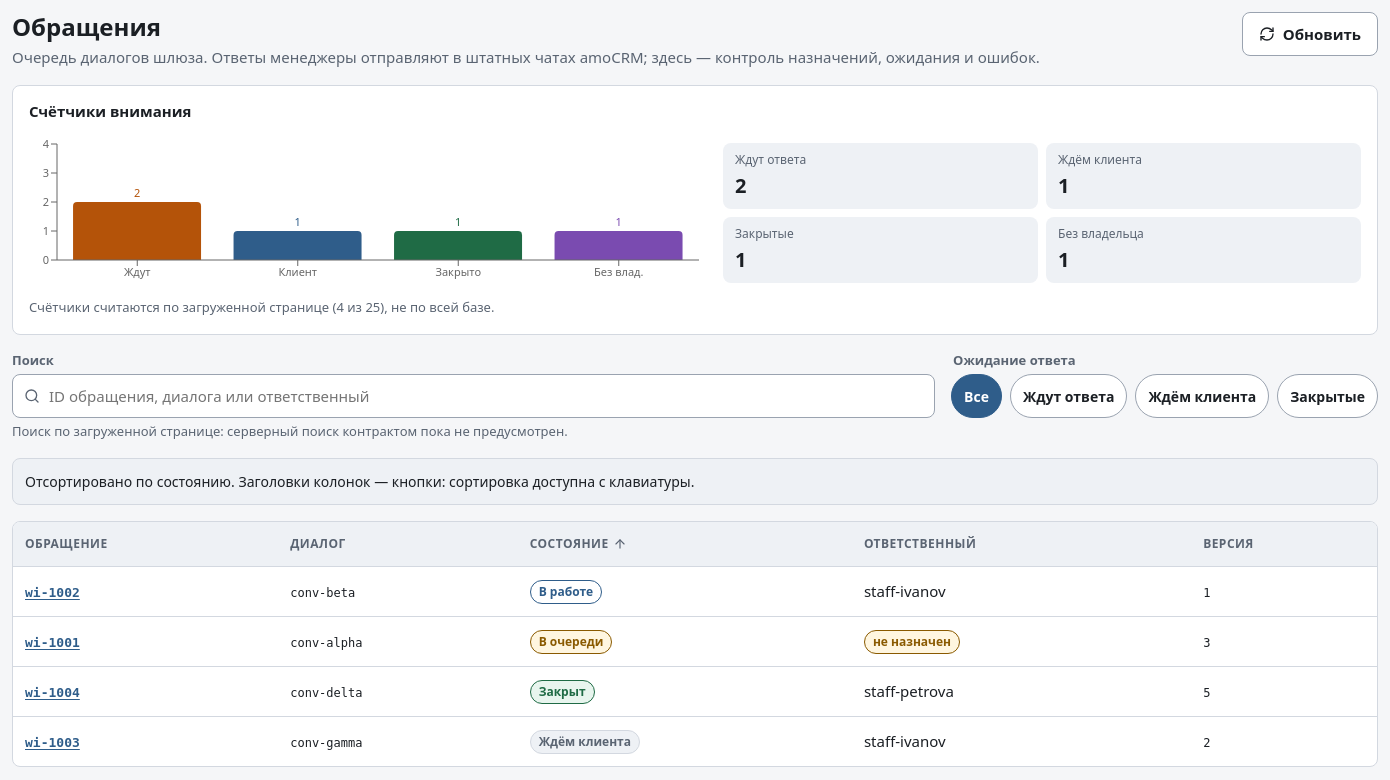
Test: список обращений › ищет по идентификатору диалога и показывает пустое состояние
expect the link "wi-1001" is shown: met, box top-left (25, 635), bottom-right (80, 650)
In the search field labelled "Поиск": (474, 396) top-left (12, 374), bottom-right (935, 418), type "conv-gamma"
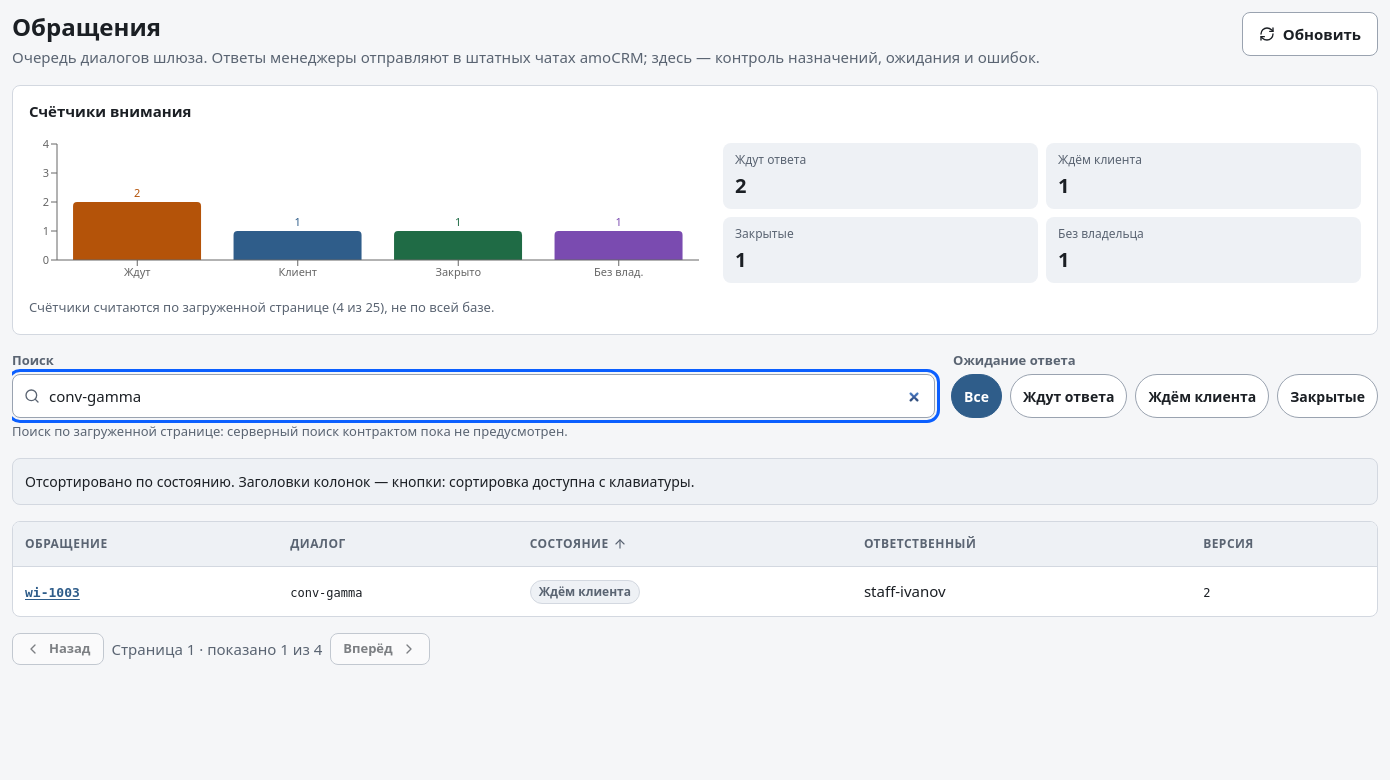
expect the link "wi-1003" is shown: met, box top-left (25, 585), bottom-right (80, 600)
expect the link "wi-1001" is gone: met
In the search field labelled "Поиск": (474, 396) top-left (12, 374), bottom-right (935, 418), type "нет-такого"
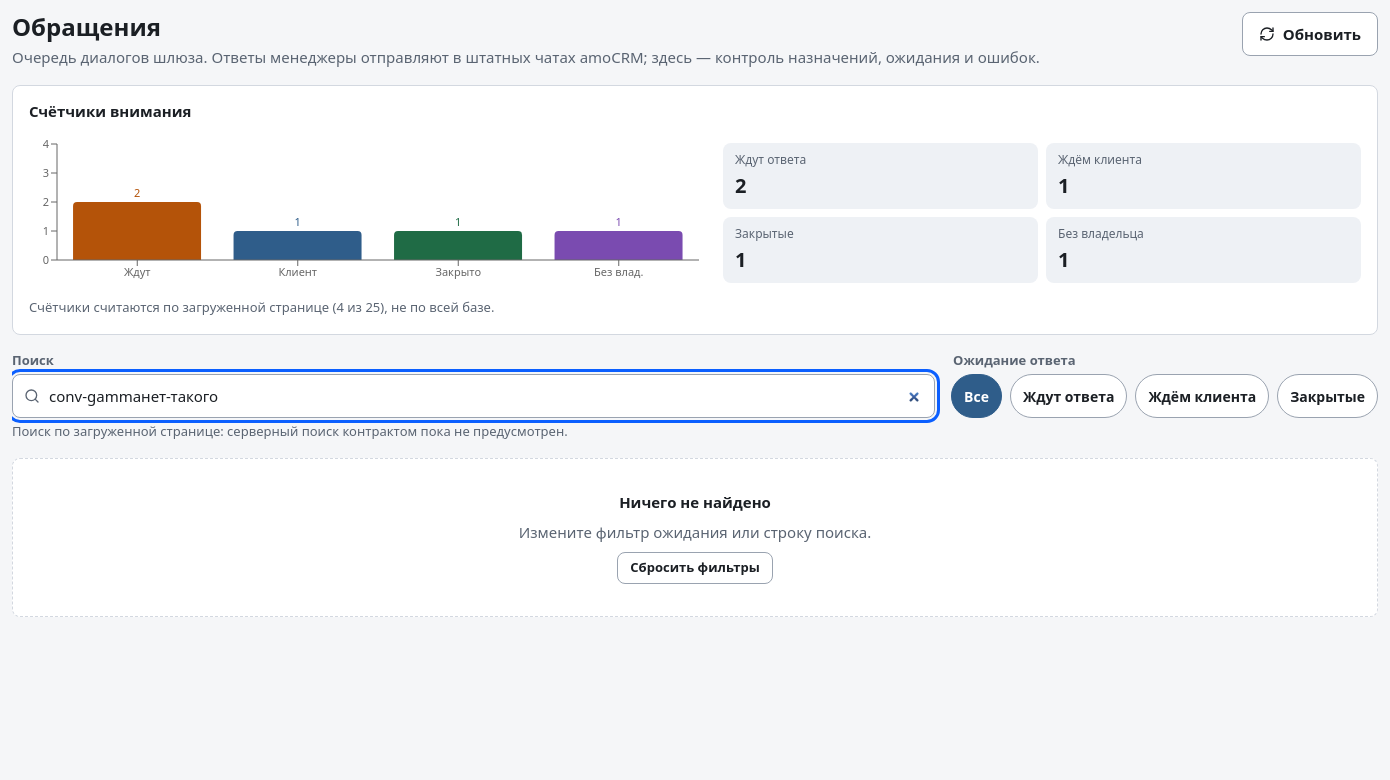
expect the text "Ничего не найдено" is shown: met, box top-left (619, 491), bottom-right (771, 513)
